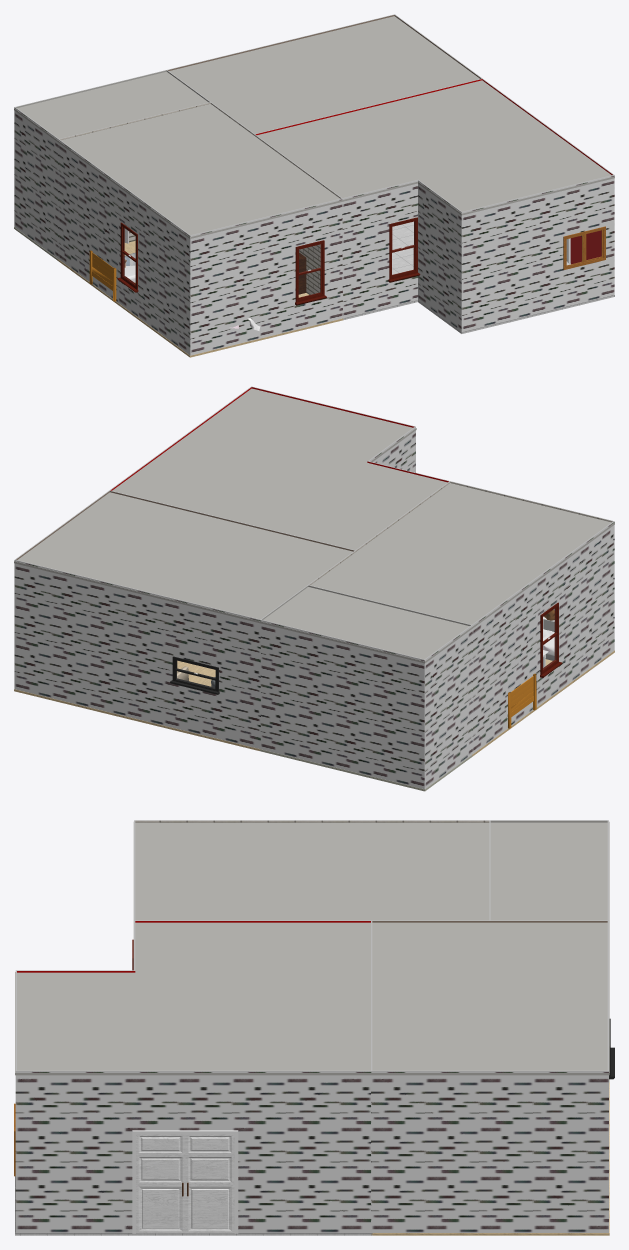
File: ProcTHOR-Train-127.glb
3 renders of one model, top to bottom at view 1: azimuth 30°, elevation 25°; view 2: azimuth 150°, elevation 25°; view 3: azimuth 270°, elevation 25°, orthographic. The views are drawn at different scales.
Visible parts, largest first — view 1: Ceiling#room|6|c, Ceiling#room|4|c, Ceiling#room|7|c, WallInside#wall|exterior|0.00|10.96|4.38|10.96, WallInside#wall|exterior|6.58|8.77|10.96|8.77, WallInside#wall|exterior|10.96|2.19|10.96|8.77, WallInside#wall|exterior|4.38|8.77|6.58|8.77, Ceiling#room|5|c, WallInside#wall|exterior|10.96|0.00|10.96|2.19, WallInside#wall|exterior|4.38|8.77|4.38|10.96, Window_Hung_32x60 (×3), Floor#room|6|f (+7 smaller); view 2: WallInside#wall|exterior|0.00|0.00|6.58|0.00, Ceiling#room|6|c, Ceiling#room|7|c, Ceiling#room|4|c, WallInside#wall|exterior|6.58|0.00|10.96|0.00, WallInside#wall|exterior|10.96|2.19|10.96|8.77, Ceiling#room|5|c, WallInside#wall|exterior|10.96|0.00|10.96|2.19, Floor#room|7|f, WallInside#wall|exterior|4.38|8.77|4.38|10.96, Bed_2, Window_Hung_48x24 (+3 smaller); view 3: Ceiling#room|6|c, WallInside#wall|exterior|0.00|4.38|0.00|10.96, WallInside#wall|exterior|0.00|0.00|0.00|4.38, Ceiling#room|7|c, Ceiling#room|4|c, Ceiling#room|5|c, Doorway_Door_8a, Doorway_Door_8b, Doorway_Double_8, Floor#room|6|f, WallInside#wall|4|10.96|2.19|10.96|8.77, Floor#room|7|f (+1 smaller).
Boxes of the visible parts, <box> form: Ceiling#room|6|c: <box>257,80,614,215</box>; Ceiling#room|4|c: <box>58,104,343,238</box>; Ceiling#room|7|c: <box>169,16,479,133</box>; WallInside#wall|exterior|0.00|10.96|4.38|10.96: <box>462,175,614,331</box>; WallInside#wall|exterior|6.58|8.77|10.96|8.77: <box>190,198,342,355</box>; WallInside#wall|exterior|10.96|2.19|10.96|8.77: <box>58,139,190,355</box>; WallInside#wall|exterior|4.38|8.77|6.58|8.77: <box>342,180,417,318</box>; Ceiling#room|5|c: <box>14,72,208,142</box>; WallInside#wall|exterior|10.96|0.00|10.96|2.19: <box>14,107,58,258</box>; WallInside#wall|exterior|4.38|8.77|4.38|10.96: <box>418,180,461,331</box>; Window_Hung_32x60 (×3): <box>117,217,420,305</box>; Floor#room|6|f: <box>307,221,614,333</box>; WallInside#wall|exterior|0.00|0.00|6.58|0.00: <box>14,560,260,749</box>; Ceiling#room|6|c: <box>110,388,447,550</box>; Ceiling#room|7|c: <box>14,492,352,622</box>; Ceiling#room|4|c: <box>309,483,614,628</box>; WallInside#wall|exterior|6.58|0.00|10.96|0.00: <box>260,620,424,789</box>; WallInside#wall|exterior|10.96|2.19|10.96|8.77: <box>472,521,614,753</box>; Ceiling#room|5|c: <box>259,587,472,663</box>; WallInside#wall|exterior|10.96|0.00|10.96|2.19: <box>425,625,472,788</box>; Floor#room|7|f: <box>14,660,260,750</box>; WallInside#wall|exterior|4.38|8.77|4.38|10.96: <box>368,426,415,472</box>; Bed_2: <box>508,673,536,728</box>; Window_Hung_48x24: <box>170,656,219,694</box>; Ceiling#room|6|c: <box>15,922,372,1075</box>; WallInside#wall|exterior|0.00|4.38|0.00|10.96: <box>15,1071,371,1232</box>; WallInside#wall|exterior|0.00|0.00|0.00|4.38: <box>371,1071,608,1232</box>; Ceiling#room|7|c: <box>370,922,609,1075</box>; Ceiling#room|4|c: <box>133,822,490,921</box>; Ceiling#room|5|c: <box>489,821,609,922</box>; Doorway_Door_8a: <box>185,1134,234,1233</box>; Doorway_Door_8b: <box>136,1134,185,1233</box>; Doorway_Double_8: <box>132,1130,238,1233</box>; Floor#room|6|f: <box>15,1176,372,1235</box>; WallInside#wall|4|10.96|2.19|10.96|8.77: <box>135,820,489,822</box>; Floor#room|7|f: <box>371,1082,609,1235</box>.
Size of what is drawn, in the model's own units: 11.17 by 3.36 by 11.12.
Materials: 249 (102 with a texture image).
